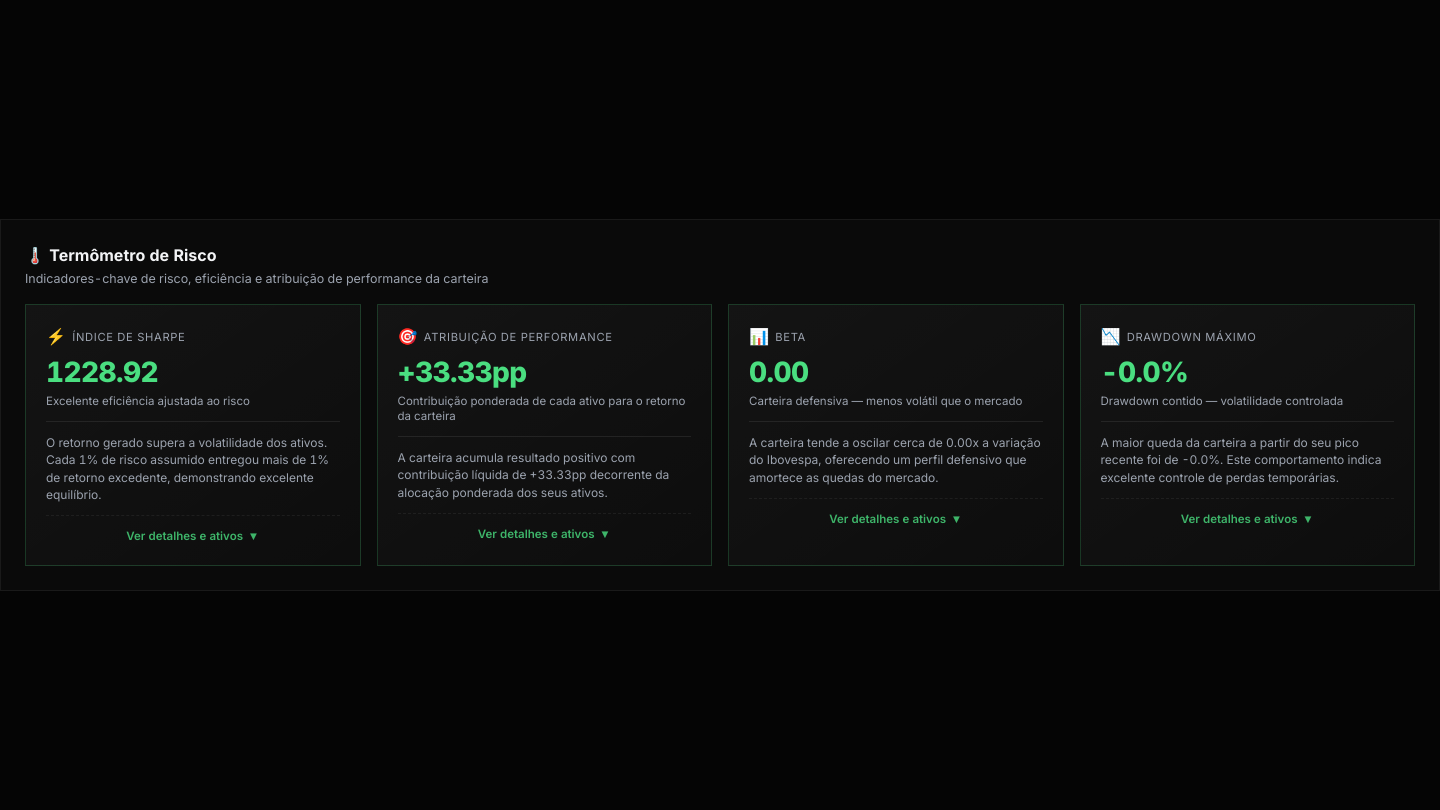
Test: RiskConcentrationSection › renders risk metrics and performance attribution scorecard
This screenshot has width=1440, height=810.
Expected: the heading "🌡️ Termômetro de Risco" is shown, [25,245,216,265]
// Click the scorecard to expand children
Click the text "Atribuição de Performance".
click(544, 435)  # box [376,304,712,566]
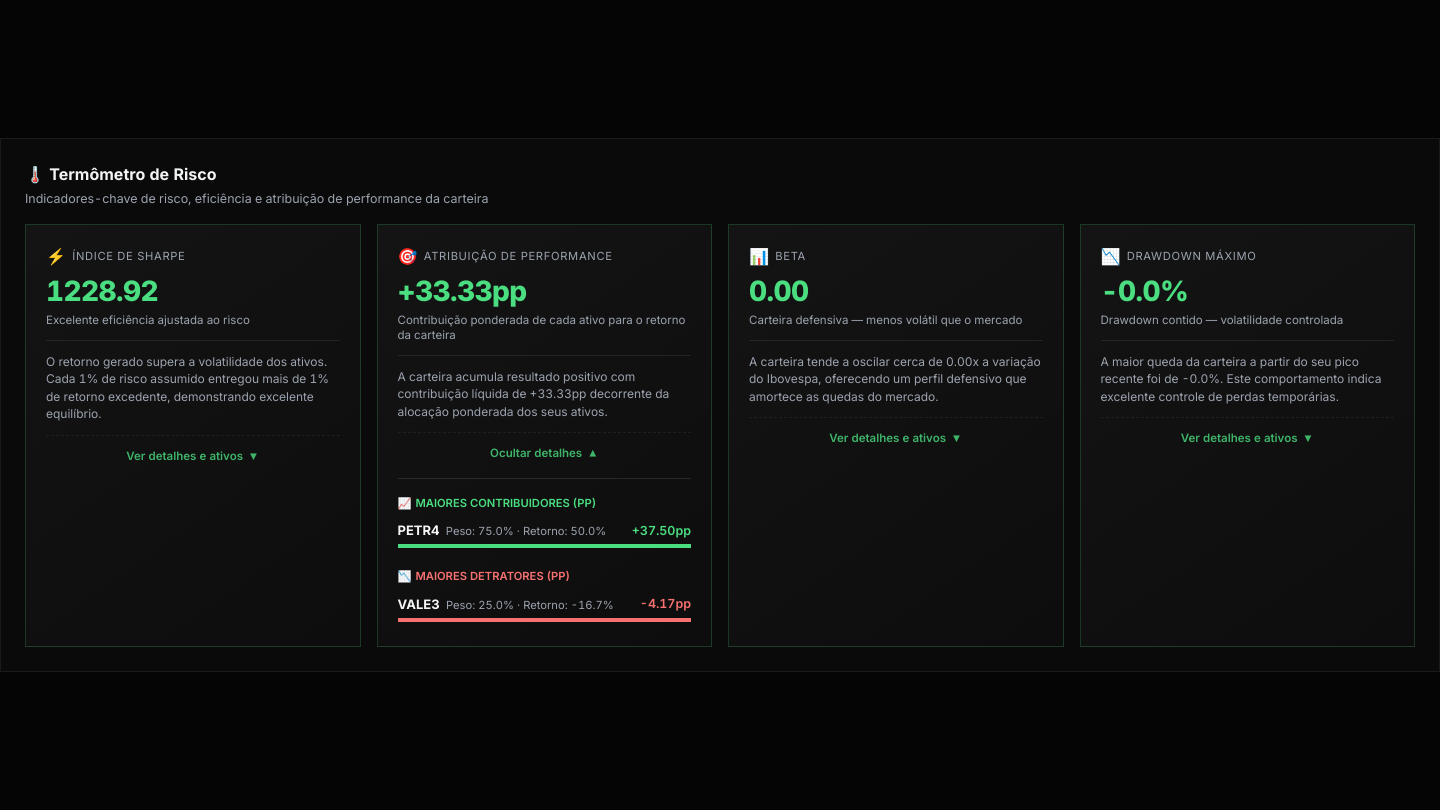
Result: the text "PETR4" is shown at [398,522,440,538]
Result: the text "+37.50pp" is shown at [632,522,691,540]
Result: the text "VALE3" is shown at [398,596,440,612]
